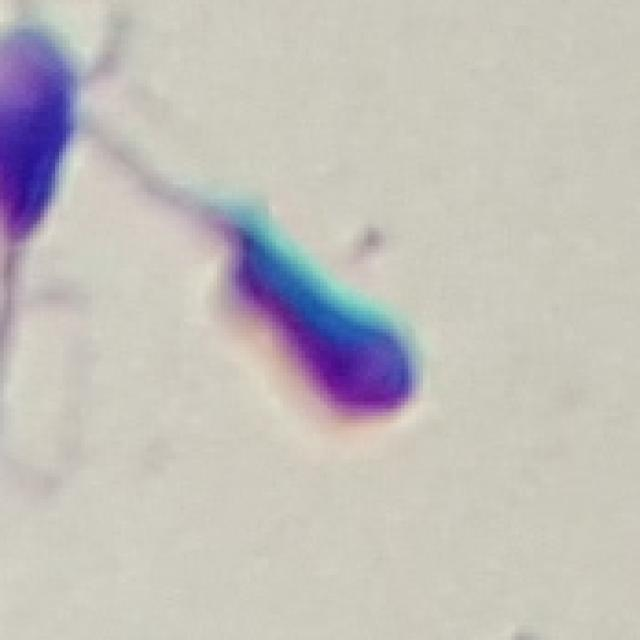abnormal sperm: (107, 138, 419, 421), (0, 26, 77, 358)
